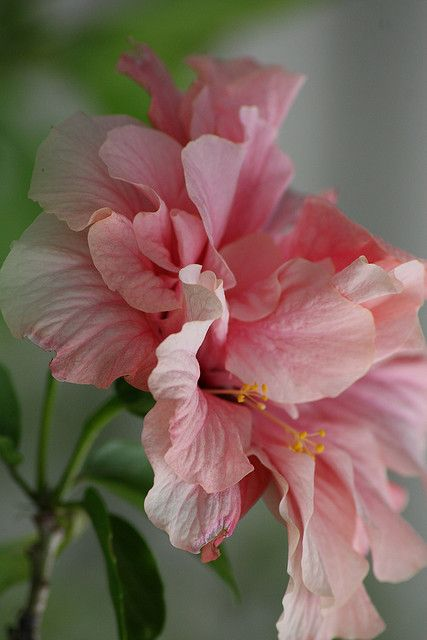Hibiscus: (17, 33, 420, 640)
